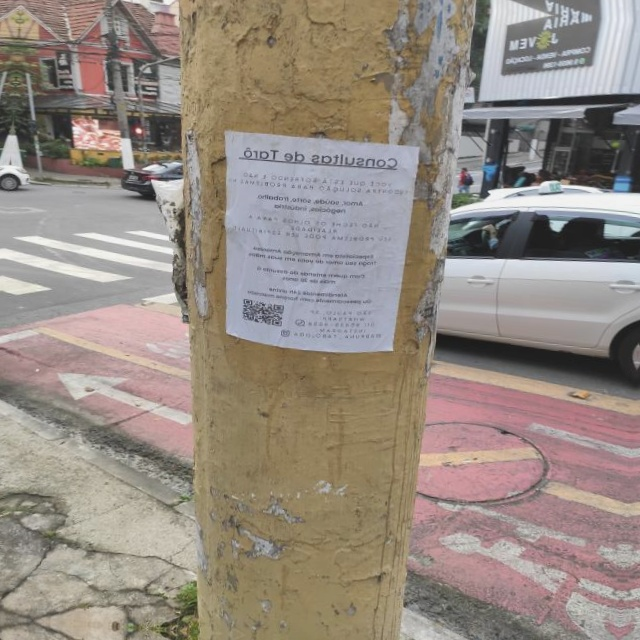qr-code: (243, 298, 284, 327)
